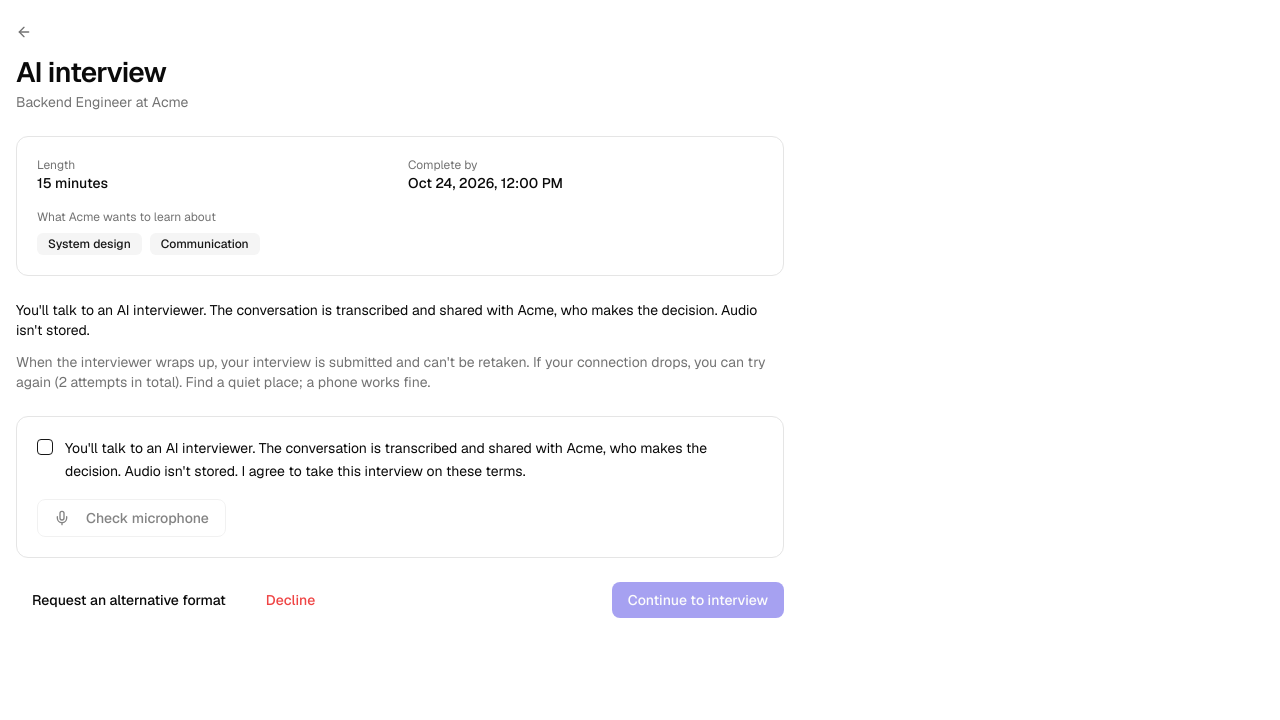
ScreeningInterviewView intro (SIT-053, SI-REQ-020) › declines through the action after confirming
This screenshot has width=1280, height=720.
What coordinates should you click on to do the following:
click the button "Decline"
I would click on:
 (290, 600)
Its box is 250,582 -> 331,618.
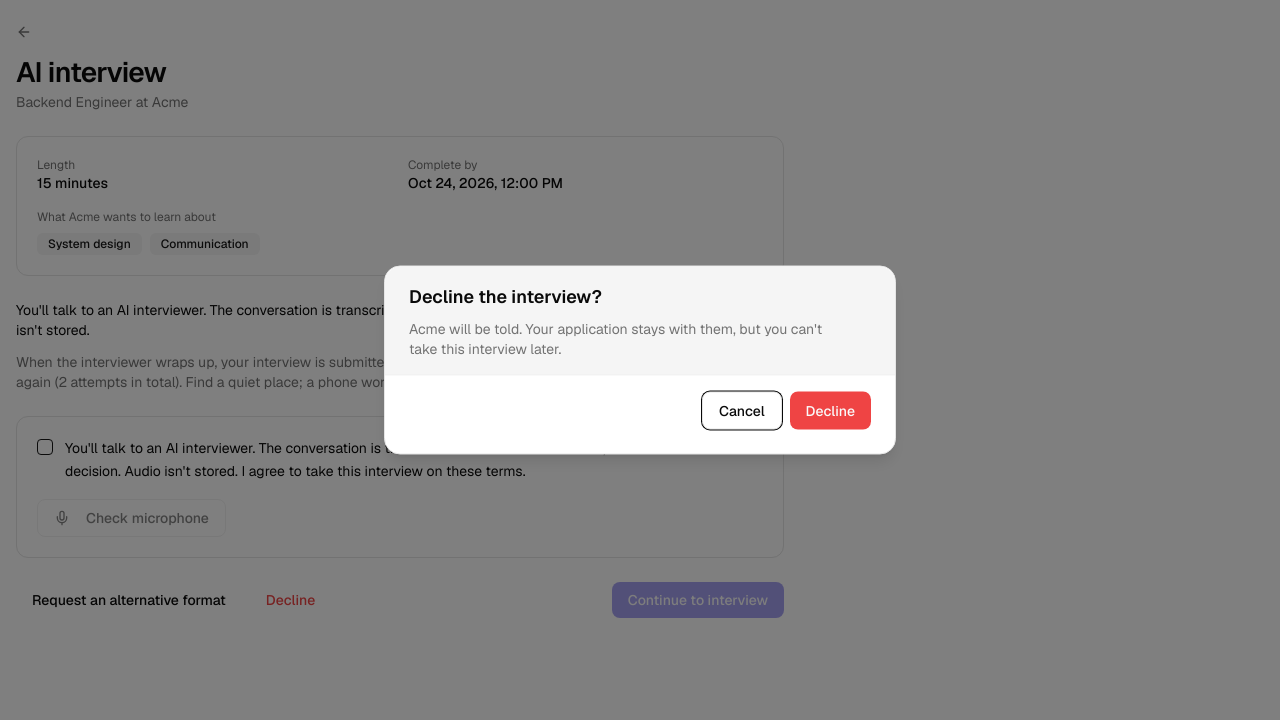
What coordinates should you click on to do the following:
click the button "Decline"
I would click on:
 (830, 410)
Its box is 790,392 -> 871,430.
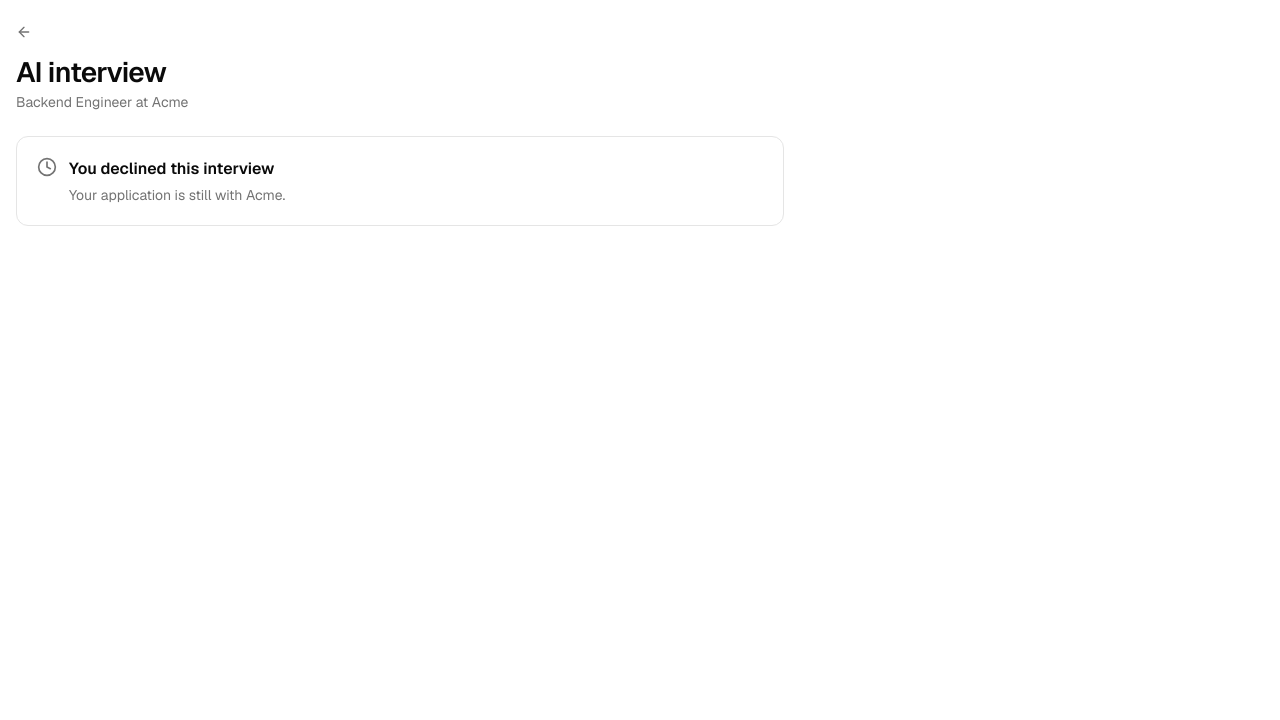
Check: the heading "You declined this interview" is shown, box 69,157 -> 285,181
